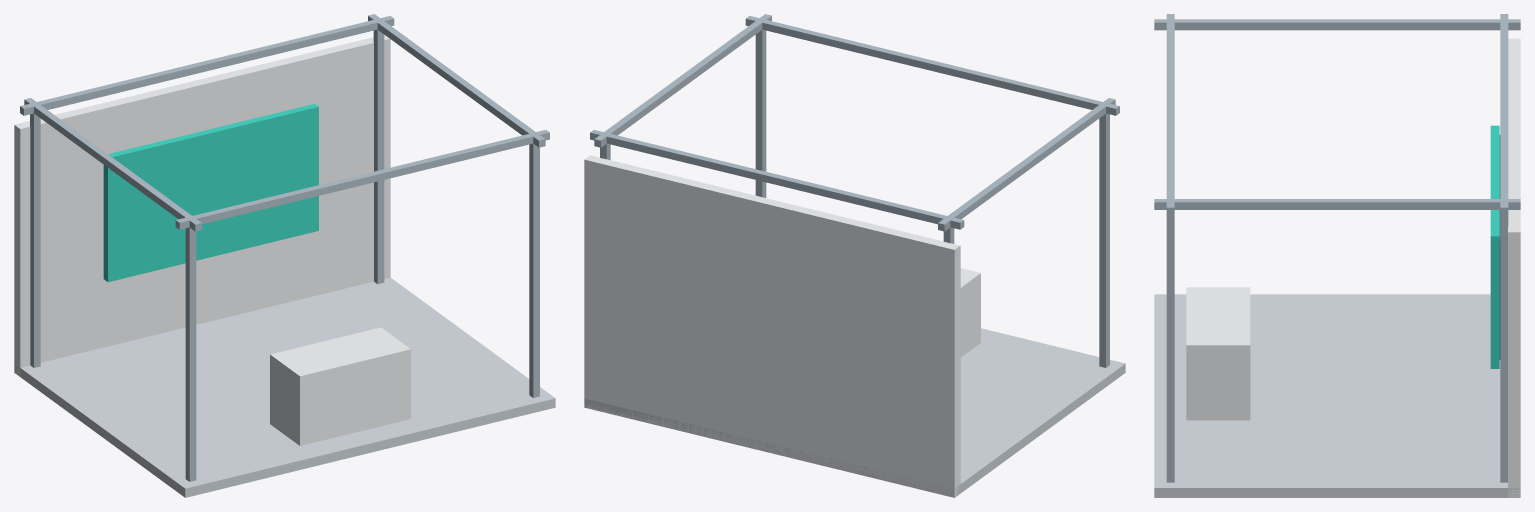
3 views of the same model, side by side, from view 1: azimuth 30°, elevation 25°; view 2: azimuth 150°, elevation 25°; view 3: azimuth 270°, elevation 25° (orthographic). The views are drawn at different scales.
Visible parts, largest first — view 1: Exhibition Booth Concept; view 2: Exhibition Booth Concept; view 3: Exhibition Booth Concept.
Boxes of the visible parts, x1,y1,x2,y2 form: Exhibition Booth Concept: [14, 14, 555, 497]; Exhibition Booth Concept: [584, 14, 1125, 497]; Exhibition Booth Concept: [1154, 14, 1520, 497].
Size of the model in its own units: 5 by 3.49 by 4.
